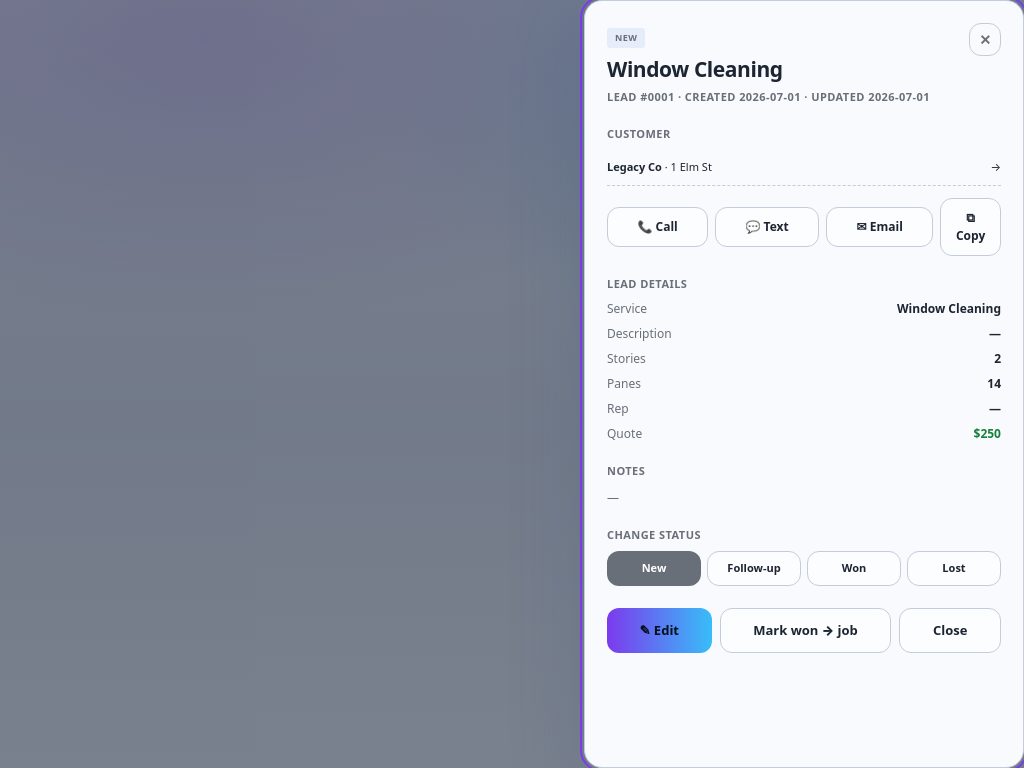
LeadDrawer money prop (Task 8: rep quote UI widening) › rep sees the Quote $ input in edit mode
Click the button "✎ Edit" at (659, 630), box 607,608 -> 712,653
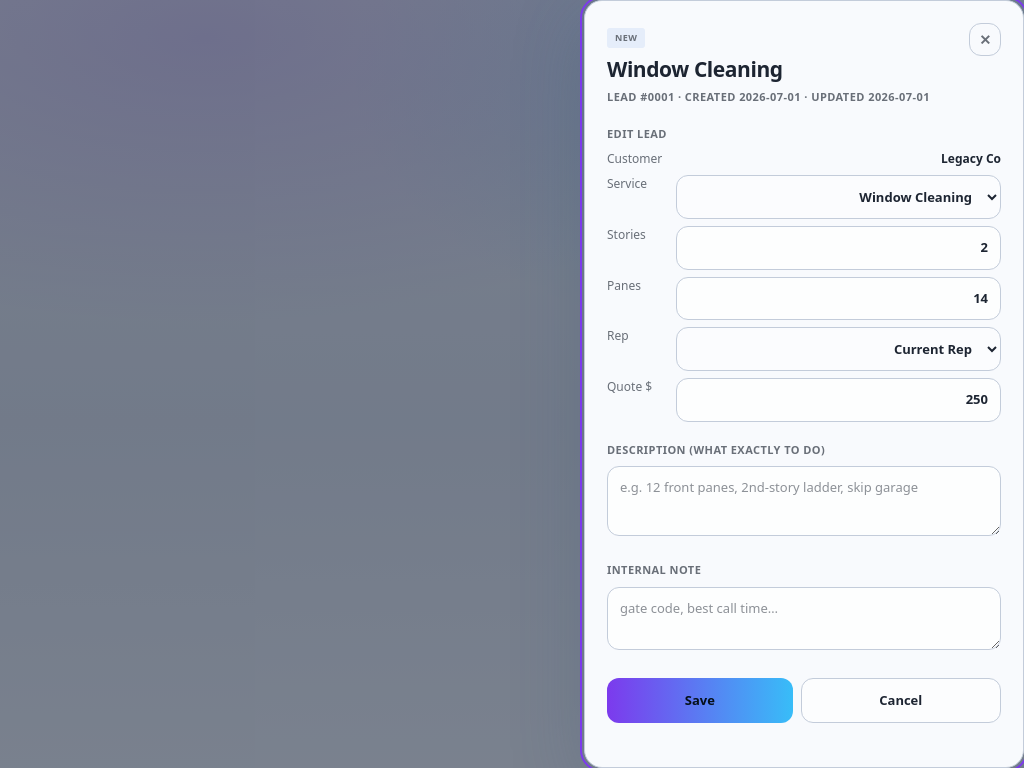
Expected: the 3rd number field named "quote" is shown, 676,378 -> 1001,422
